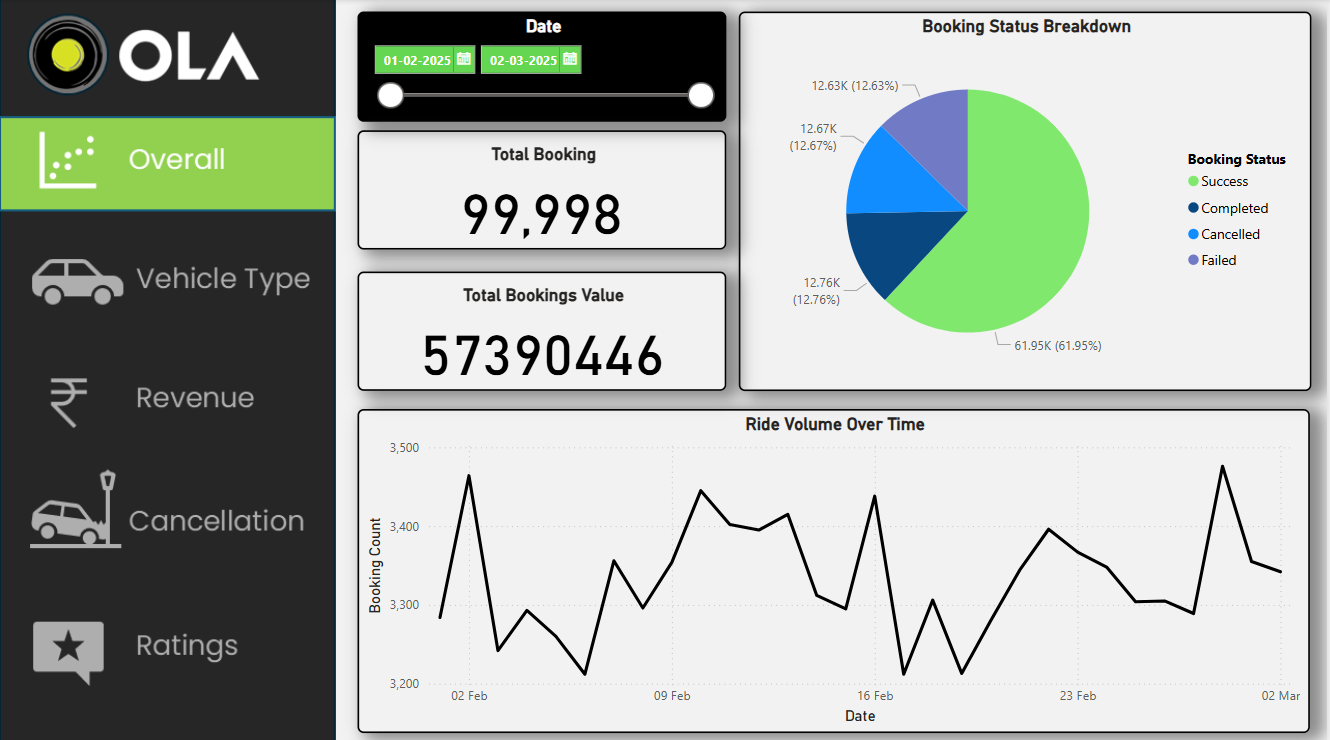

The dashboard page shown, as its layout file describes it:
{"tool":"powerbi","page":{"name":"Overall 1","canvas":[1280,720],"ordinal":0},"visuals":[{"type":"actionButton","box":[0,219.6,324.5,95.3],"z":0},{"type":"actionButton","box":[0,330.6,324.5,95.3],"z":1000},{"type":"actionButton","box":[0,448.8,324.5,95.3],"z":2000},{"type":"actionButton","box":[0,580.3,324.5,95.3],"z":3000},{"type":"lineChart","title":"Ride Volume Over Time","fields":{"Y":["CountNonNull(Sheet1.Booking ID)"],"Category":["Sheet1.Date"]},"box":[344.8,395.3,919,313.1],"z":4000},{"type":"pieChart","title":"Booking Status Breakdown","fields":{"Y":["CountNonNull(Sheet1.Booking Status)"],"Category":["Sheet1.Booking Status"]},"box":[712.7,11.5,552.6,366.5],"z":5000},{"type":"slicer","title":"Date","fields":{"Values":["Sheet1.Date"]},"box":[344.8,11.5,356.4,106.8],"z":6000},{"type":"card","title":"Total Booking","fields":{"Values":["Count(Sheet1.Booking ID)"]},"box":[344.8,127,356.4,115.4],"z":7000},{"type":"card","title":"Total Bookings Value","fields":{"Values":["Sum(Sheet1.Booking Value)"]},"box":[344.8,262.6,356.4,115.4],"z":8000}]}

Visuals, with their boxes in screenshot pixels (x1, y1, x2, y2), scaled from the page's 1280x720 canvas onto the 1330x740 screenshot:
actionButton: 0 226 337 324
actionButton: 0 340 337 438
actionButton: 0 461 337 559
actionButton: 0 596 337 694
"Ride Volume Over Time" lineChart: 358 406 1313 728
"Booking Status Breakdown" pieChart: 741 12 1315 388
"Date" slicer: 358 12 729 122
"Total Booking" card: 358 131 729 249
"Total Bookings Value" card: 358 270 729 388
